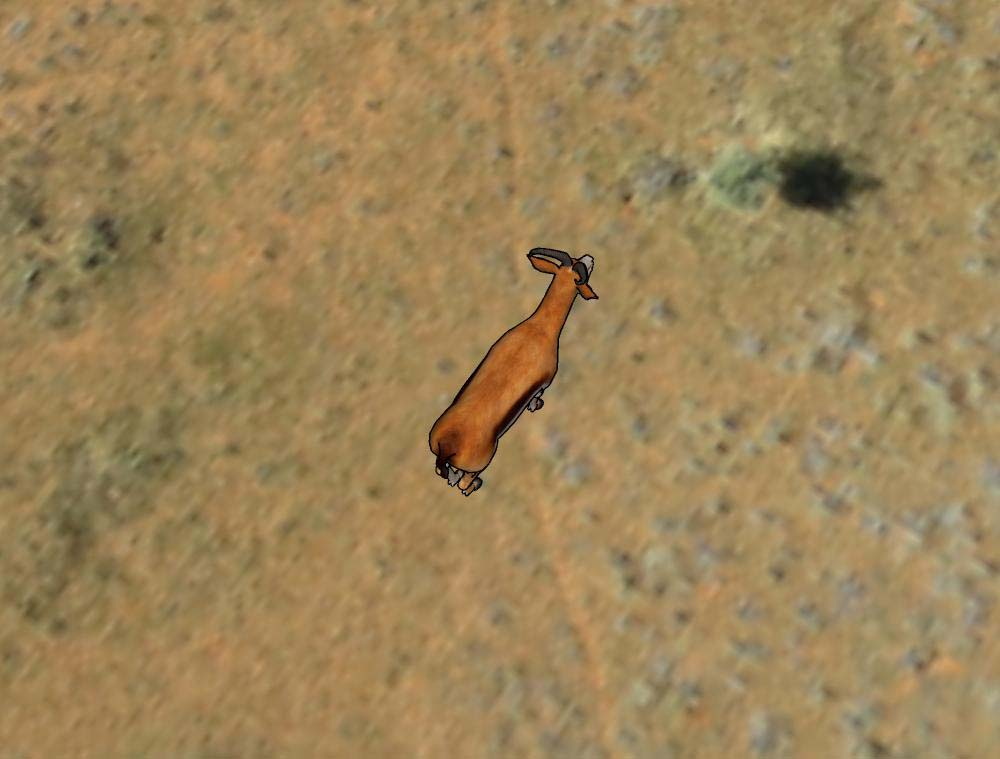springbok: (426, 239, 601, 500)
